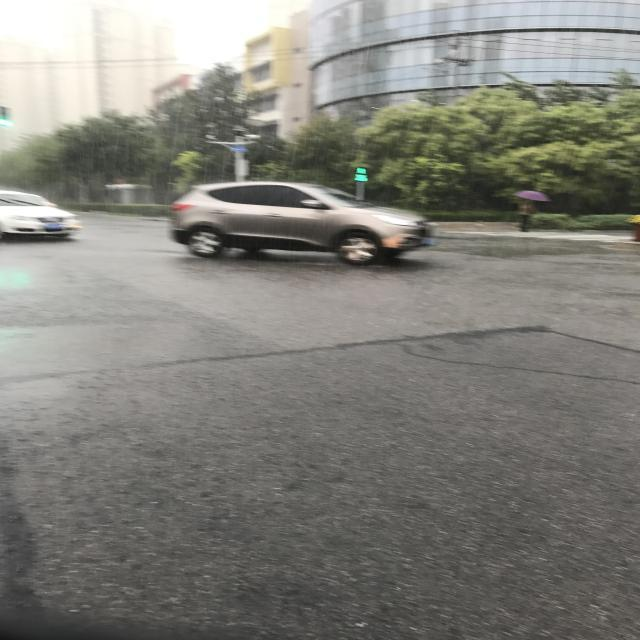car: (181, 210, 265, 473), (191, 557, 239, 640)
